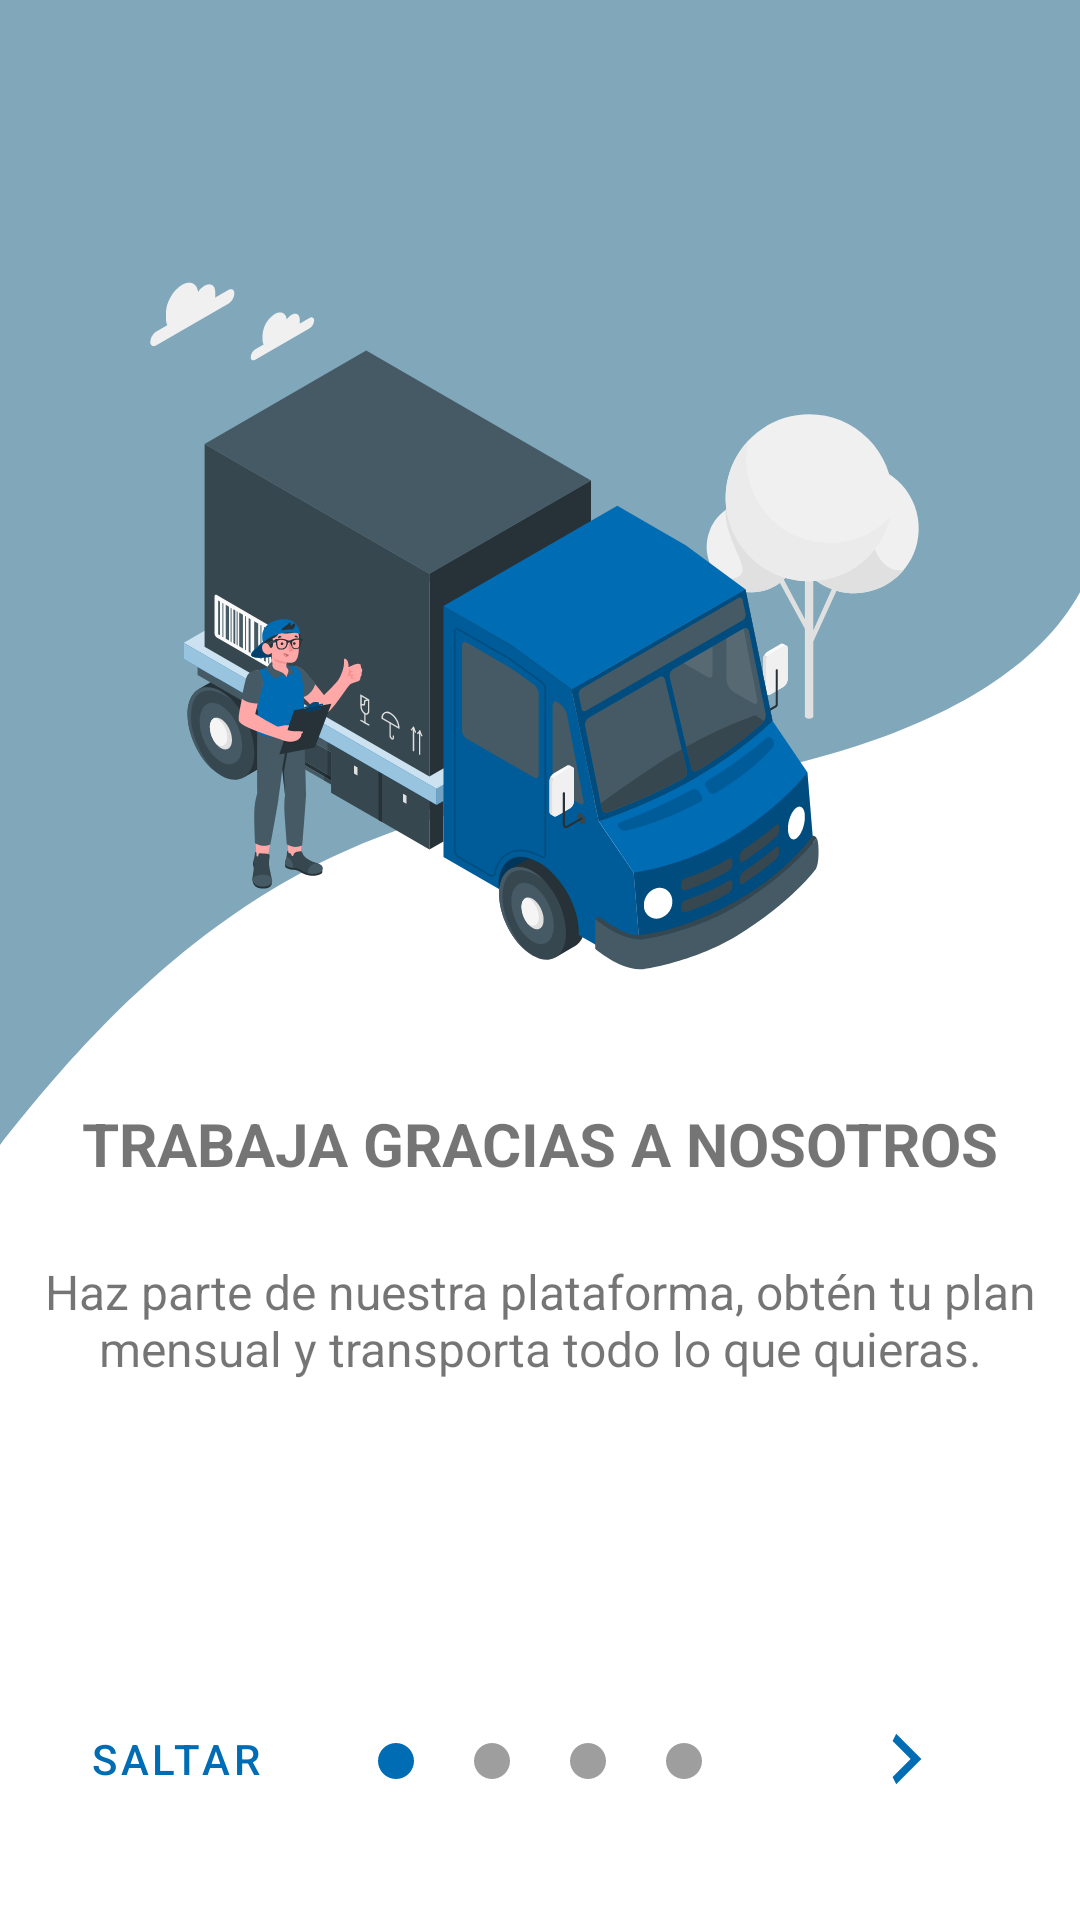

Icons on this 1080×1920 Android screen, each with its box as (x1, y1, x2, y2):
flecha adelante: (892, 1734, 921, 1784)
